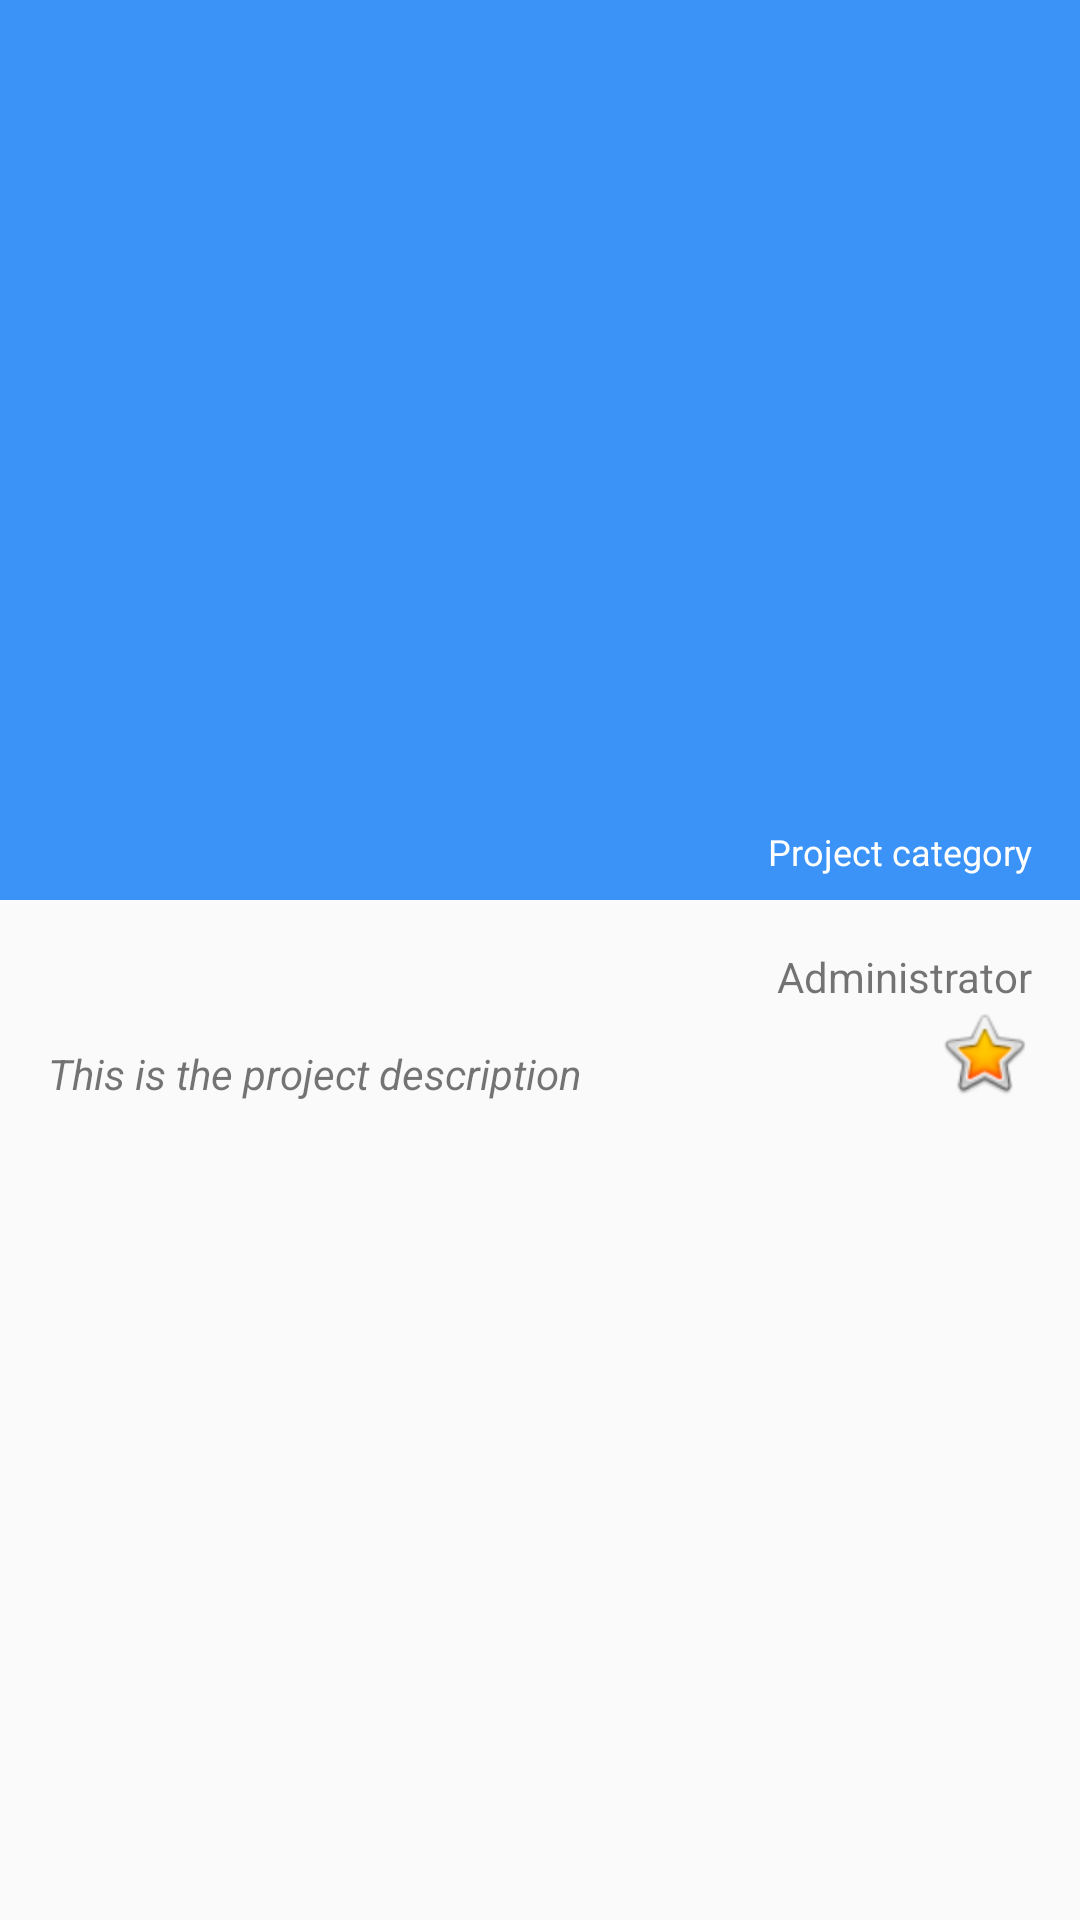

Where icons sit on this 1080 × 1920 app screen, as detection(x1, y1, x2, y2):
star on: detection(945, 1015, 1025, 1093)
